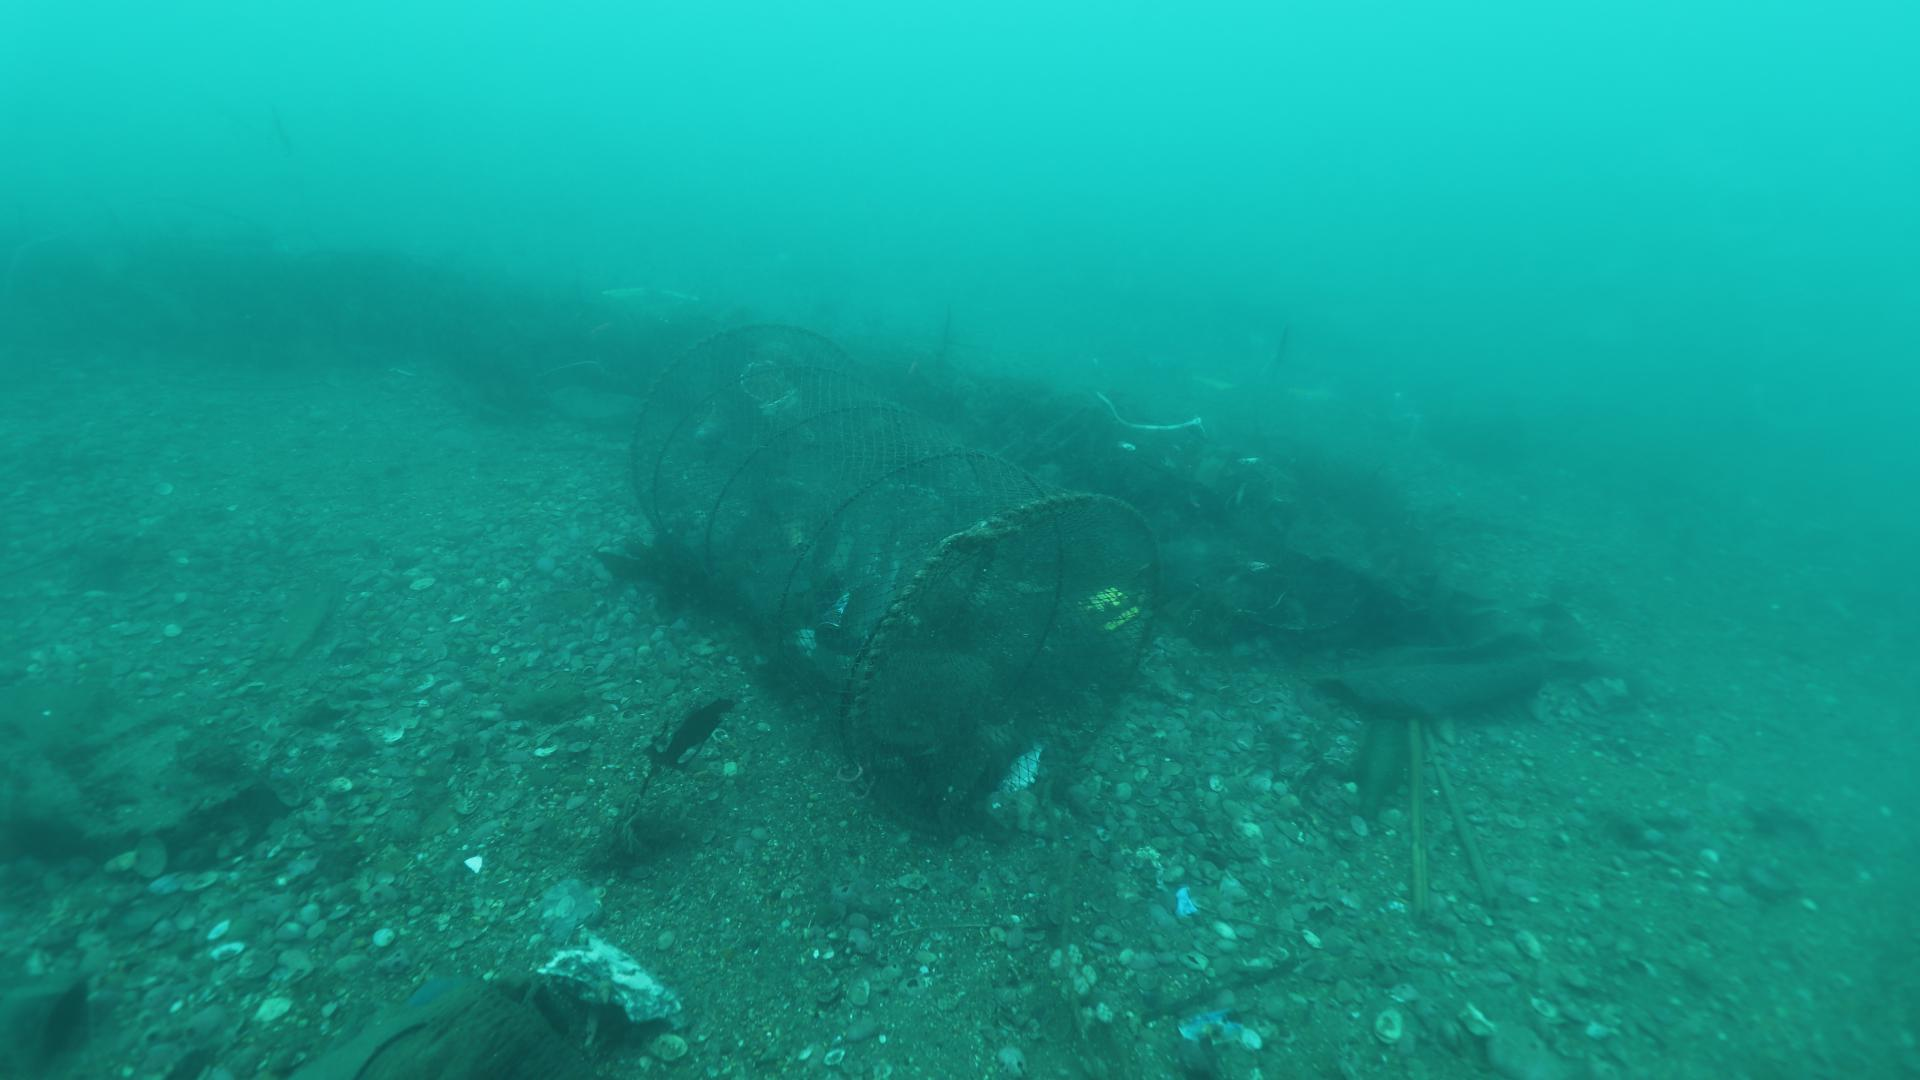spring fish trap: (636, 320, 1164, 839)
